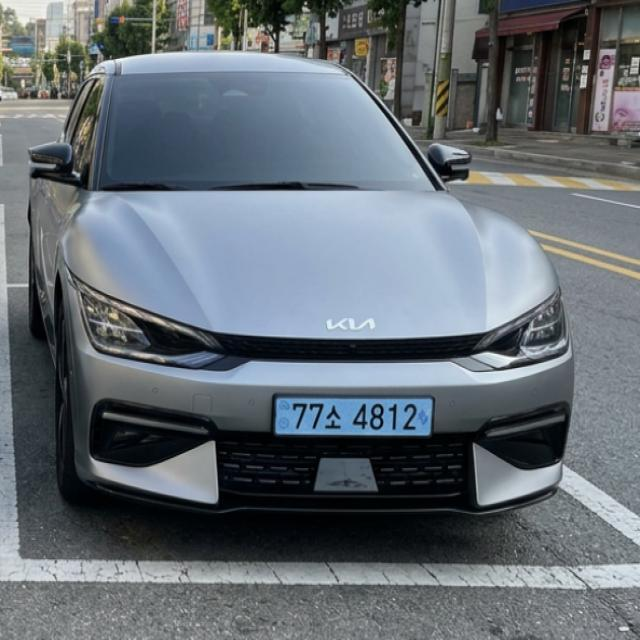car: (260, 392, 450, 450)
carev: (271, 394, 294, 450), (416, 393, 432, 441)
